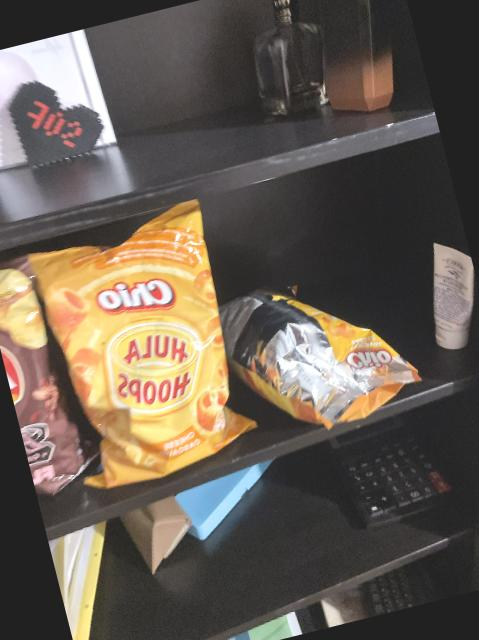Chio Cascaval 125g: (205, 255, 427, 450)
Chio Hula Hoops Cheese 70g: (22, 200, 262, 494)
Lays Beef Grilled Ribs 125g: (0, 250, 106, 501)
